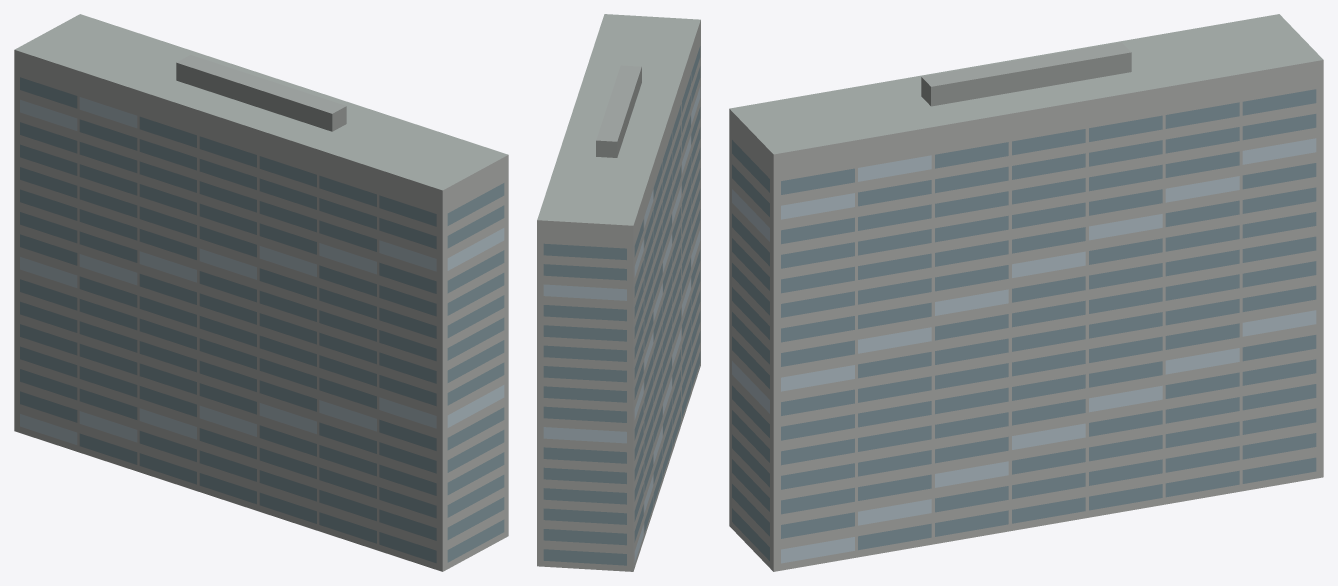
File: apt-a15805302.glb
3 renders of one model, left to right at view 1: azimuth 30°, elevation 25°; view 2: azimuth 150°, elevation 25°; view 3: azimuth 270°, elevation 25°, orthographic. The views are drawn at different scales.
Visible parts, largest first — view 1: apt-a15805302; view 2: apt-a15805302; view 3: apt-a15805302.
Boxes of the visible parts, x1,y1,x2,y2 form: apt-a15805302: [14, 14, 508, 571]; apt-a15805302: [537, 14, 700, 571]; apt-a15805302: [729, 14, 1323, 571].
Size of the model in its own units: 34.47 by 50 by 61.61.
